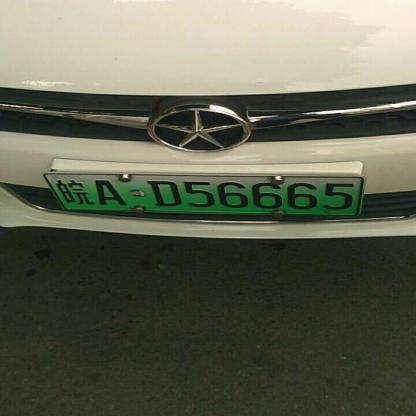lp: (44, 174, 67, 215)
